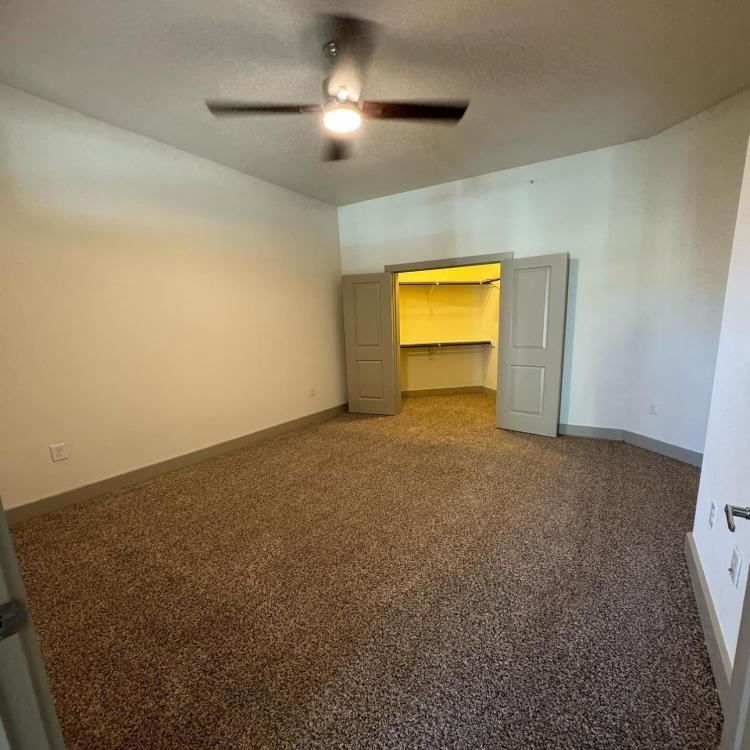OpenDoor: (382, 257, 506, 437)
